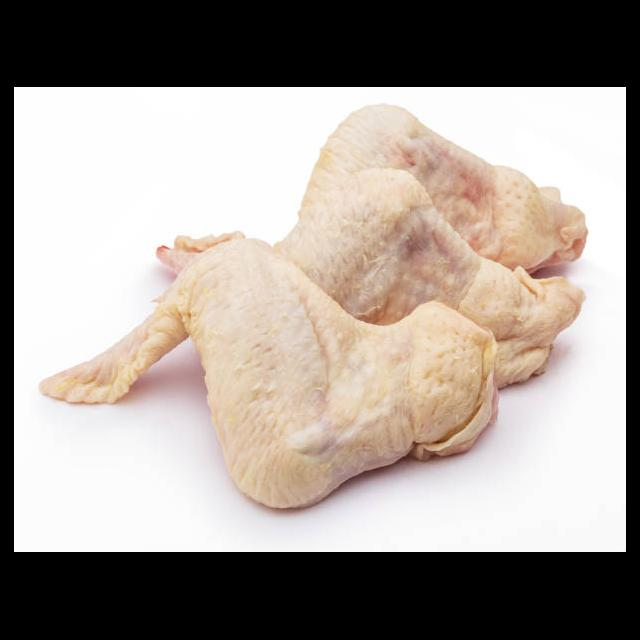chicken: (40, 236, 501, 512), (265, 172, 587, 390), (294, 106, 584, 276)
